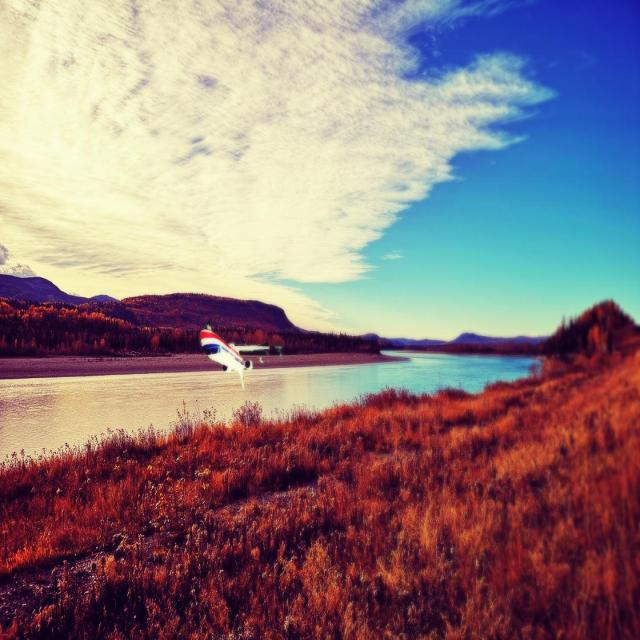airplane: (199, 325, 270, 390)
